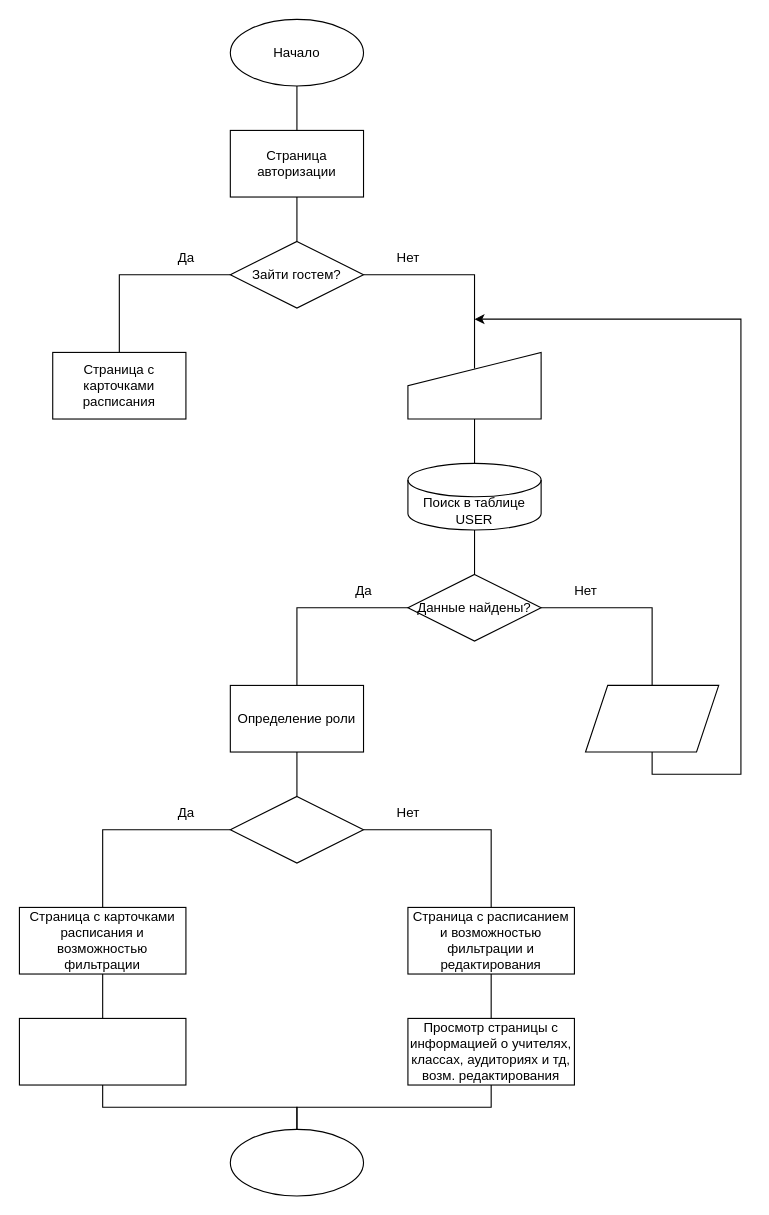
Image size: 769x1215. Some labels were removed from this diagram. The centre of each missing label's shape, as x and y in pixels:
"Конец" belongs at (296,1162).
"Логин, пароль" belongs at (474,385).
"Сообщение об ошибке" belongs at (651,718).
"Страницы с информацией о учителях, классах, аудиториях и тд." belongs at (102,1051).
"Учитель?" belongs at (296,829).
